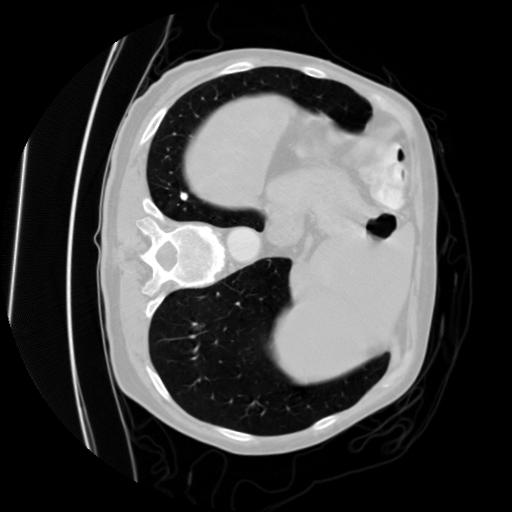nodule: (179, 192, 193, 206)
